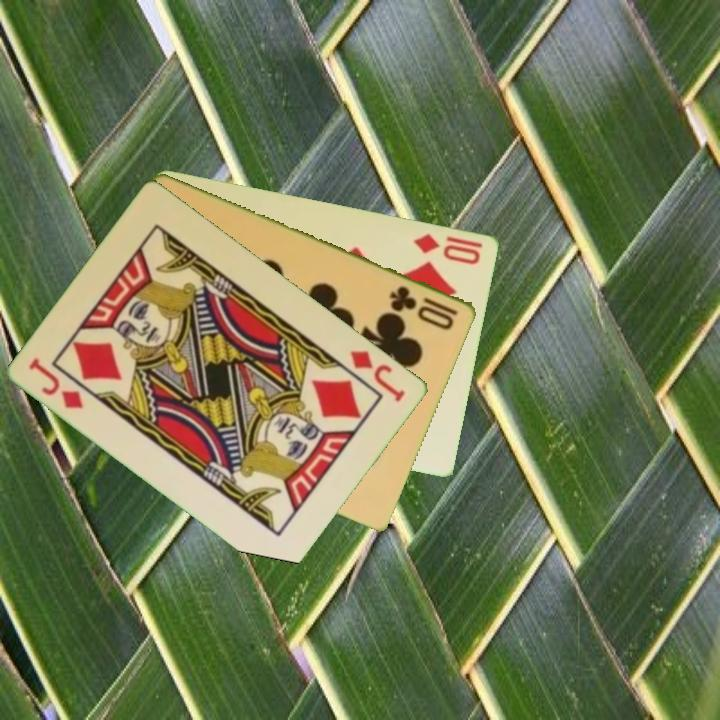10c: (386, 282, 462, 333)
10d: (410, 230, 484, 267)
Jd: (347, 346, 409, 405), (25, 354, 87, 412)
